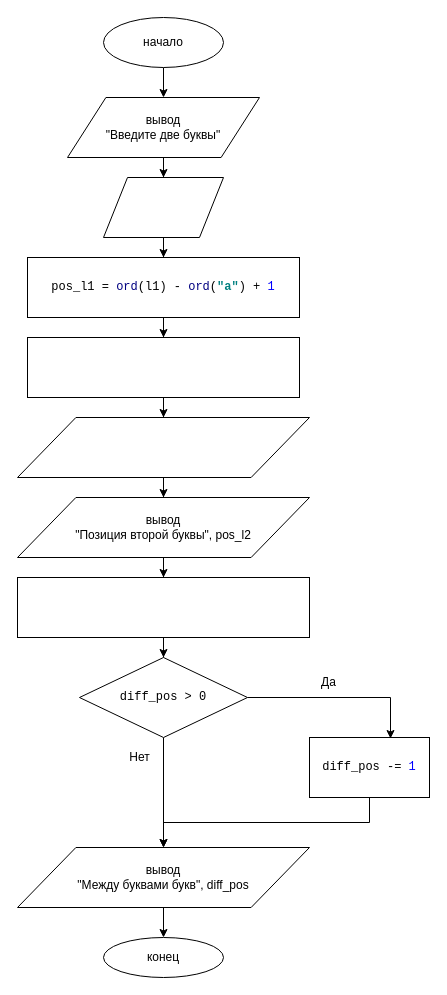
Image size: 447x995. Some labels were removed from this diagram. Here are the shapes that lost their labels. From the top down, the centre of each, then its label:
the point at 163,207: ввод l1, l2
the point at 163,367: pos_l2 = ord (l2) - ord ( "a" ) + 1
the point at 163,447: вывод "Позиция первой буквы", pos_l1
the point at 163,607: diff_pos = abs (pos_l1 - pos_l2)
